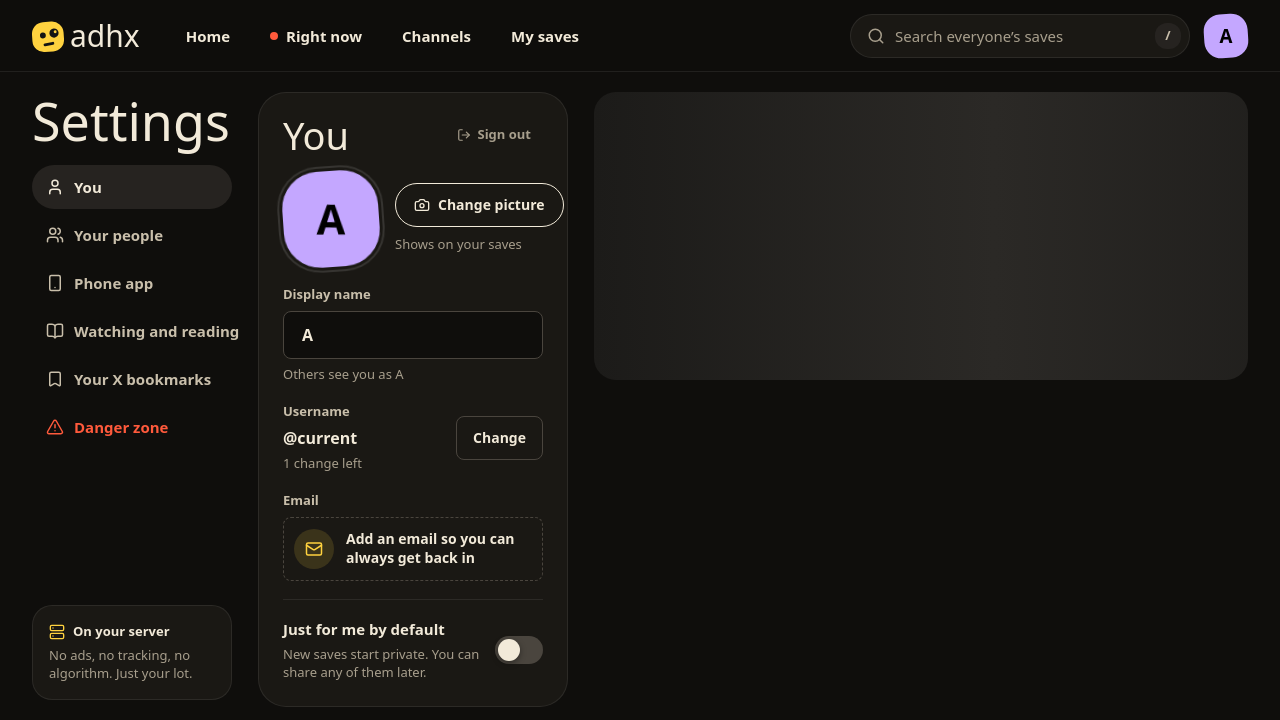
Test: SettingsClient — Username row › shows the remaining-changes count and a "Change" affordance for a chosen account
expect the text "@current" is shown: met, box left=283, top=426, right=357, bottom=450
expect the text "1 change left" is shown: met, box left=283, top=454, right=362, bottom=472
Step 1. Click the button with aria-label "Change username" → point(500, 438), box left=456, top=416, right=543, bottom=460
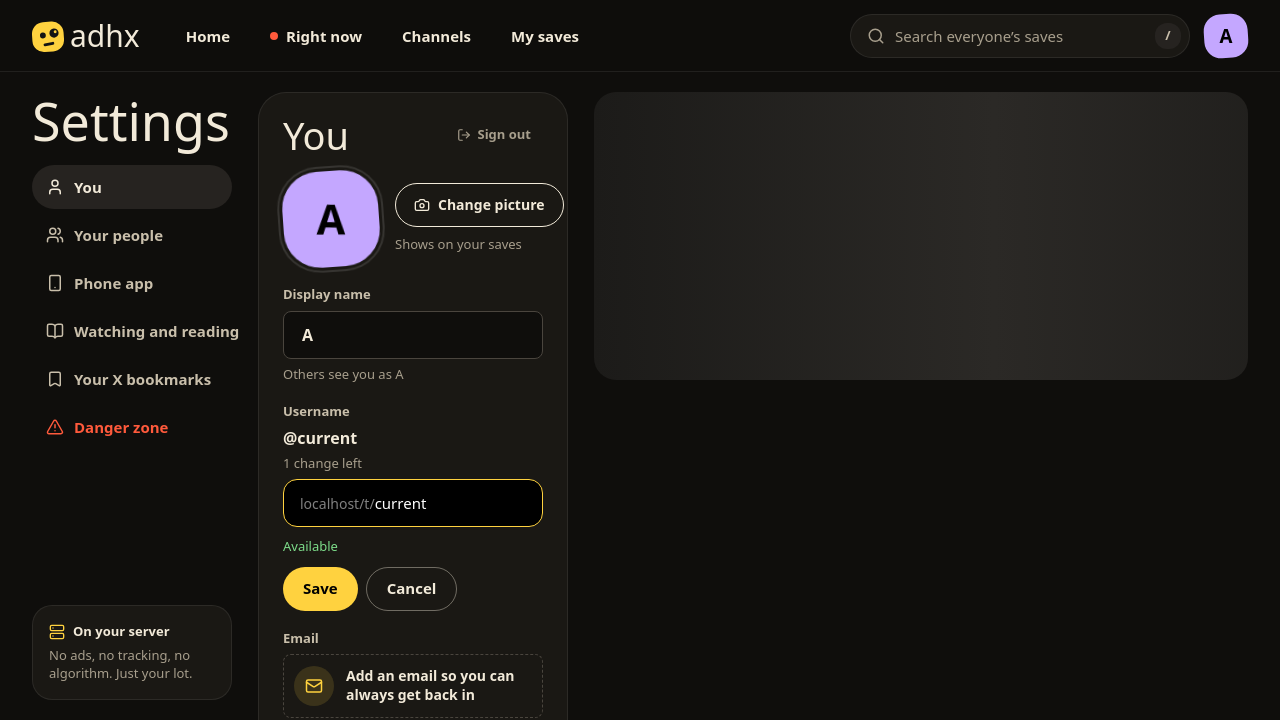
expect the field named "Username" is shown: met, box left=375, top=480, right=534, bottom=526
expect the button "Save" is shown: met, box left=283, top=567, right=358, bottom=611
expect the button "Cancel" is shown: met, box left=366, top=567, right=457, bottom=611
